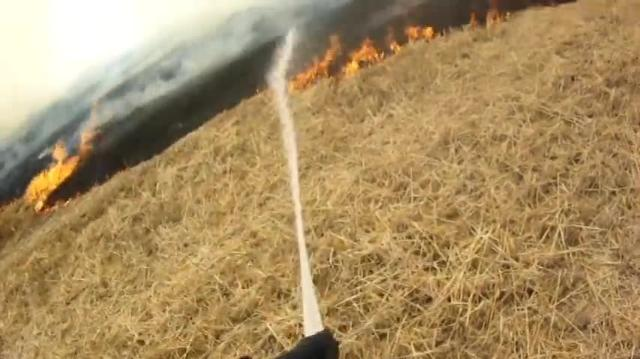fire: (286, 32, 387, 97), (23, 130, 94, 212), (387, 24, 437, 53)
smoke: (75, 1, 271, 139)
